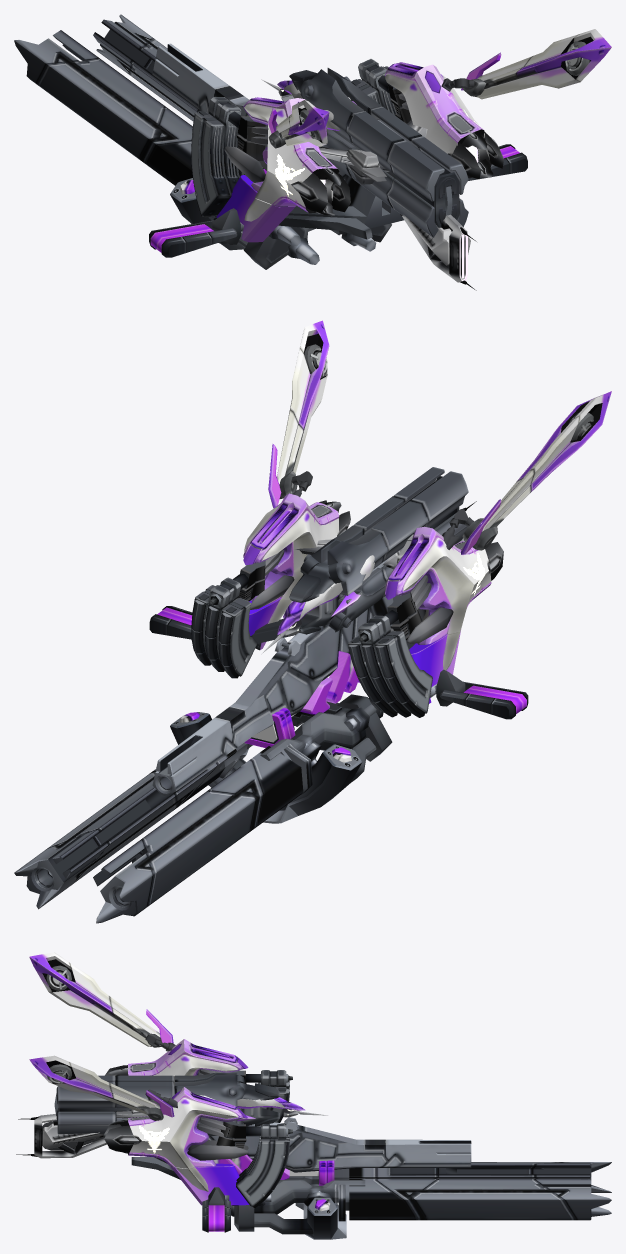
3 views of the same model, one above another, from view 1: azimuth 30°, elevation 25°; view 2: azimuth 150°, elevation 25°; view 3: azimuth 270°, elevation 25° (orthographic). The views are drawn at different scales.
Visible parts, largest first — view 1: body, turret_SB_ou05E_laser; view 2: body, turret_SB_ou05E_laser; view 3: body, turret_SB_ou05E_laser.
Boxes of the visible parts, bbox=[...] form: body: bbox=[14, 14, 611, 290]; turret_SB_ou05E_laser: bbox=[289, 68, 468, 237]; body: bbox=[14, 320, 611, 923]; turret_SB_ou05E_laser: bbox=[289, 467, 468, 634]; body: bbox=[16, 952, 611, 1239]; turret_SB_ou05E_laser: bbox=[54, 1072, 279, 1135].
Size of the model in its own units: 32.65 by 26.79 by 63.63.
Materials: 2 (2 with a texture image).
